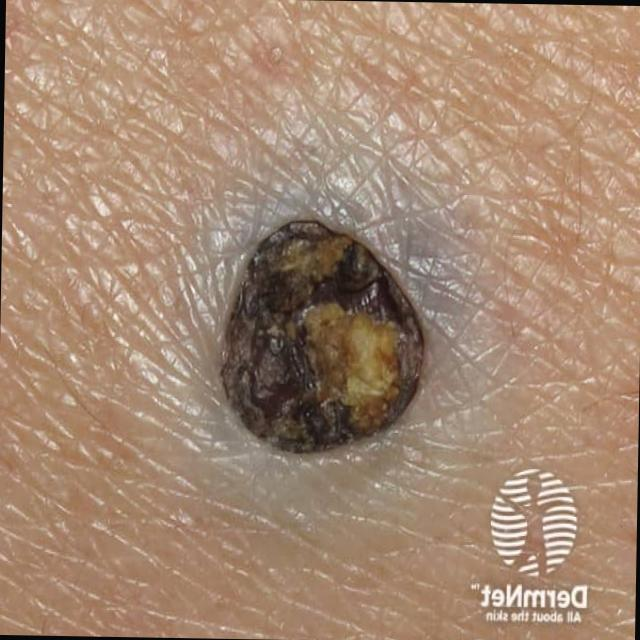blackhead: (222, 219, 423, 455)
